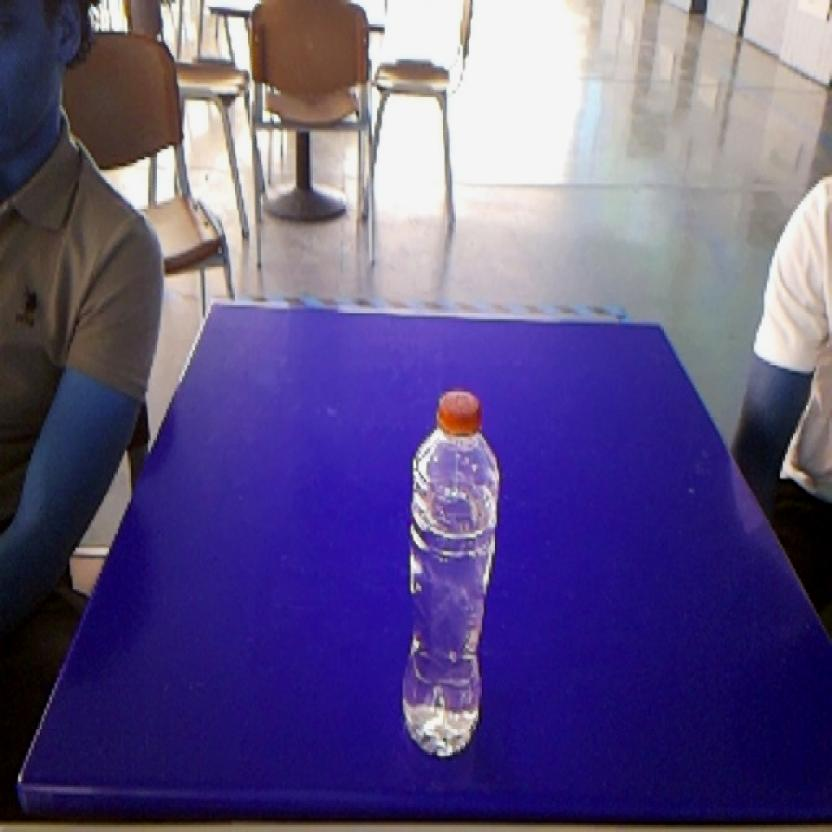no_label: (396, 382, 508, 772)
